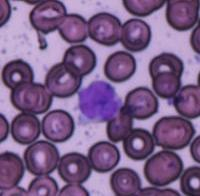L: (76, 80, 124, 122)
